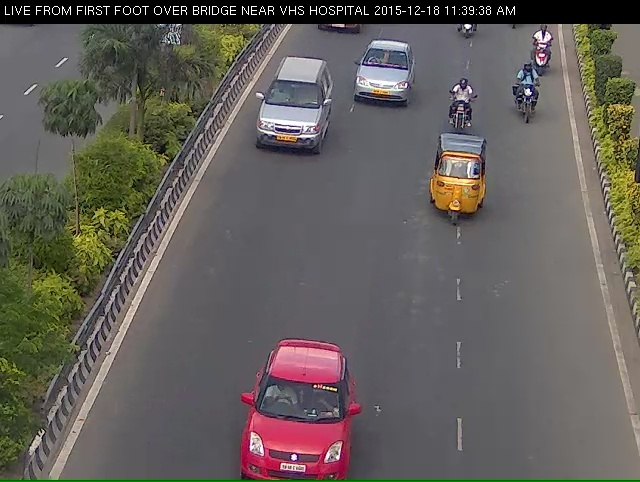Car: (233, 381, 362, 482), (422, 144, 491, 250), (256, 69, 317, 174), (355, 48, 412, 119)
Person: (446, 93, 476, 147), (518, 80, 543, 139), (536, 36, 559, 81)
